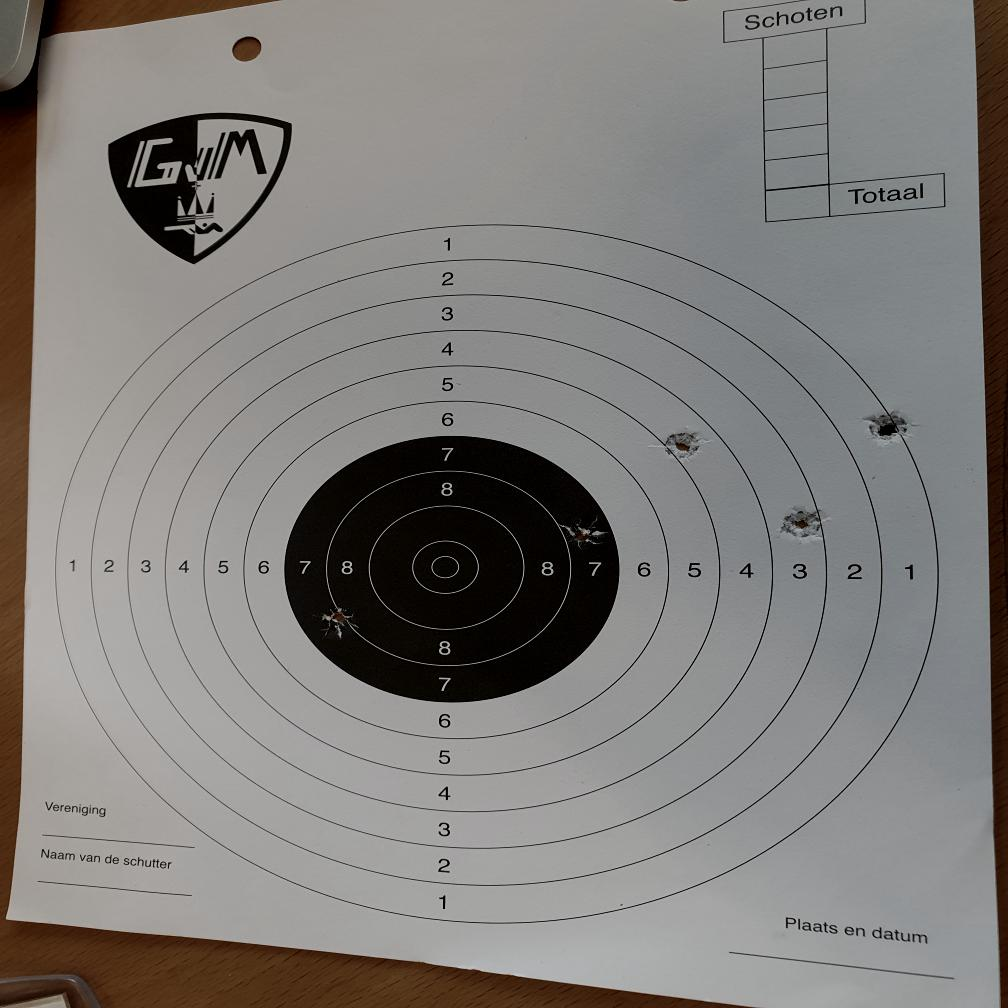1: (864, 412, 912, 443)
3: (782, 508, 823, 542)
5: (653, 425, 706, 460)
7: (557, 512, 607, 551)
8: (310, 602, 359, 641)
Target: (51, 224, 943, 925)
black_contour: (284, 435, 618, 704)
